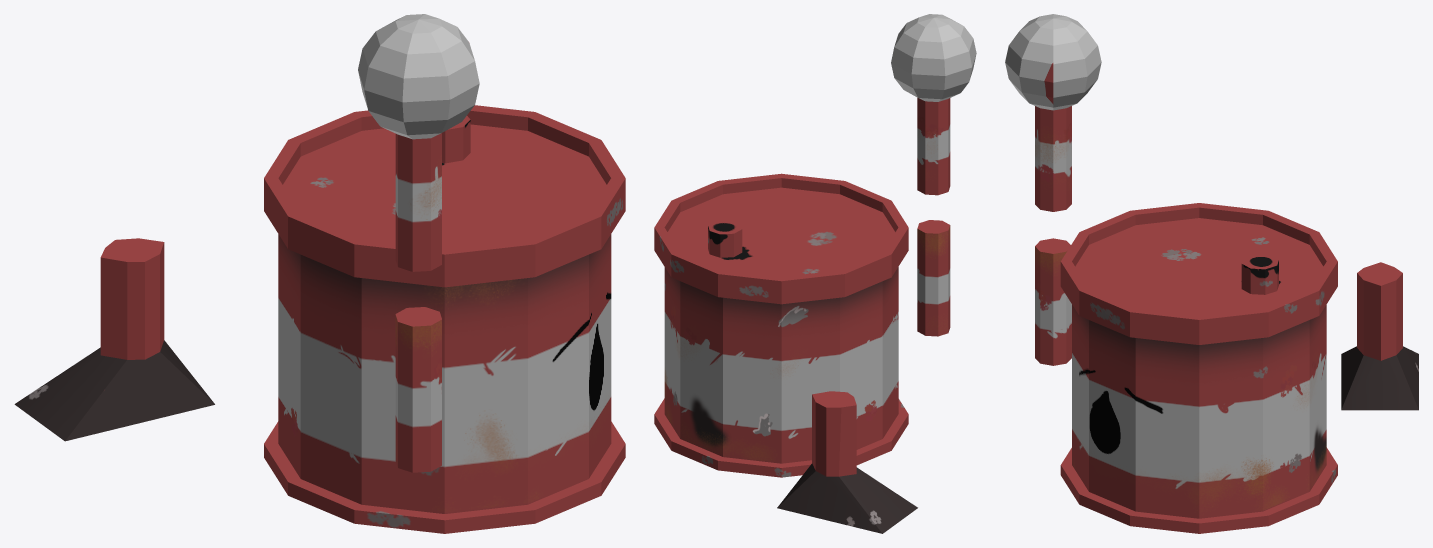
The model's file is LilGuy.fbx.
3 renders of one model, left to right at view 1: azimuth 30°, elevation 25°; view 2: azimuth 150°, elevation 25°; view 3: azimuth 270°, elevation 25°, orthographic. The views are drawn at different scales.
Visible parts, largest first — view 1: pCylinder3, pCone1, polySurface1, polySurface2; view 2: pCylinder3, pCone1, polySurface1, polySurface2; view 3: pCylinder3, polySurface1, pCone1, polySurface2.
Boxes of the visible parts, x1,y1,x2,y2 form: pCylinder3: [264, 105, 625, 533]; pCone1: [14, 238, 214, 441]; polySurface1: [358, 14, 479, 271]; polySurface2: [395, 307, 441, 472]; pCylinder3: [654, 173, 908, 477]; pCone1: [777, 391, 917, 533]; polySurface1: [891, 14, 976, 195]; polySurface2: [917, 220, 950, 336]; pCylinder3: [1060, 203, 1337, 533]; polySurface1: [1005, 14, 1101, 211]; pCone1: [1341, 262, 1418, 410]; polySurface2: [1035, 238, 1071, 365].
Size of the model in its own units: 0.2006 by 0.2321 by 0.2115.
